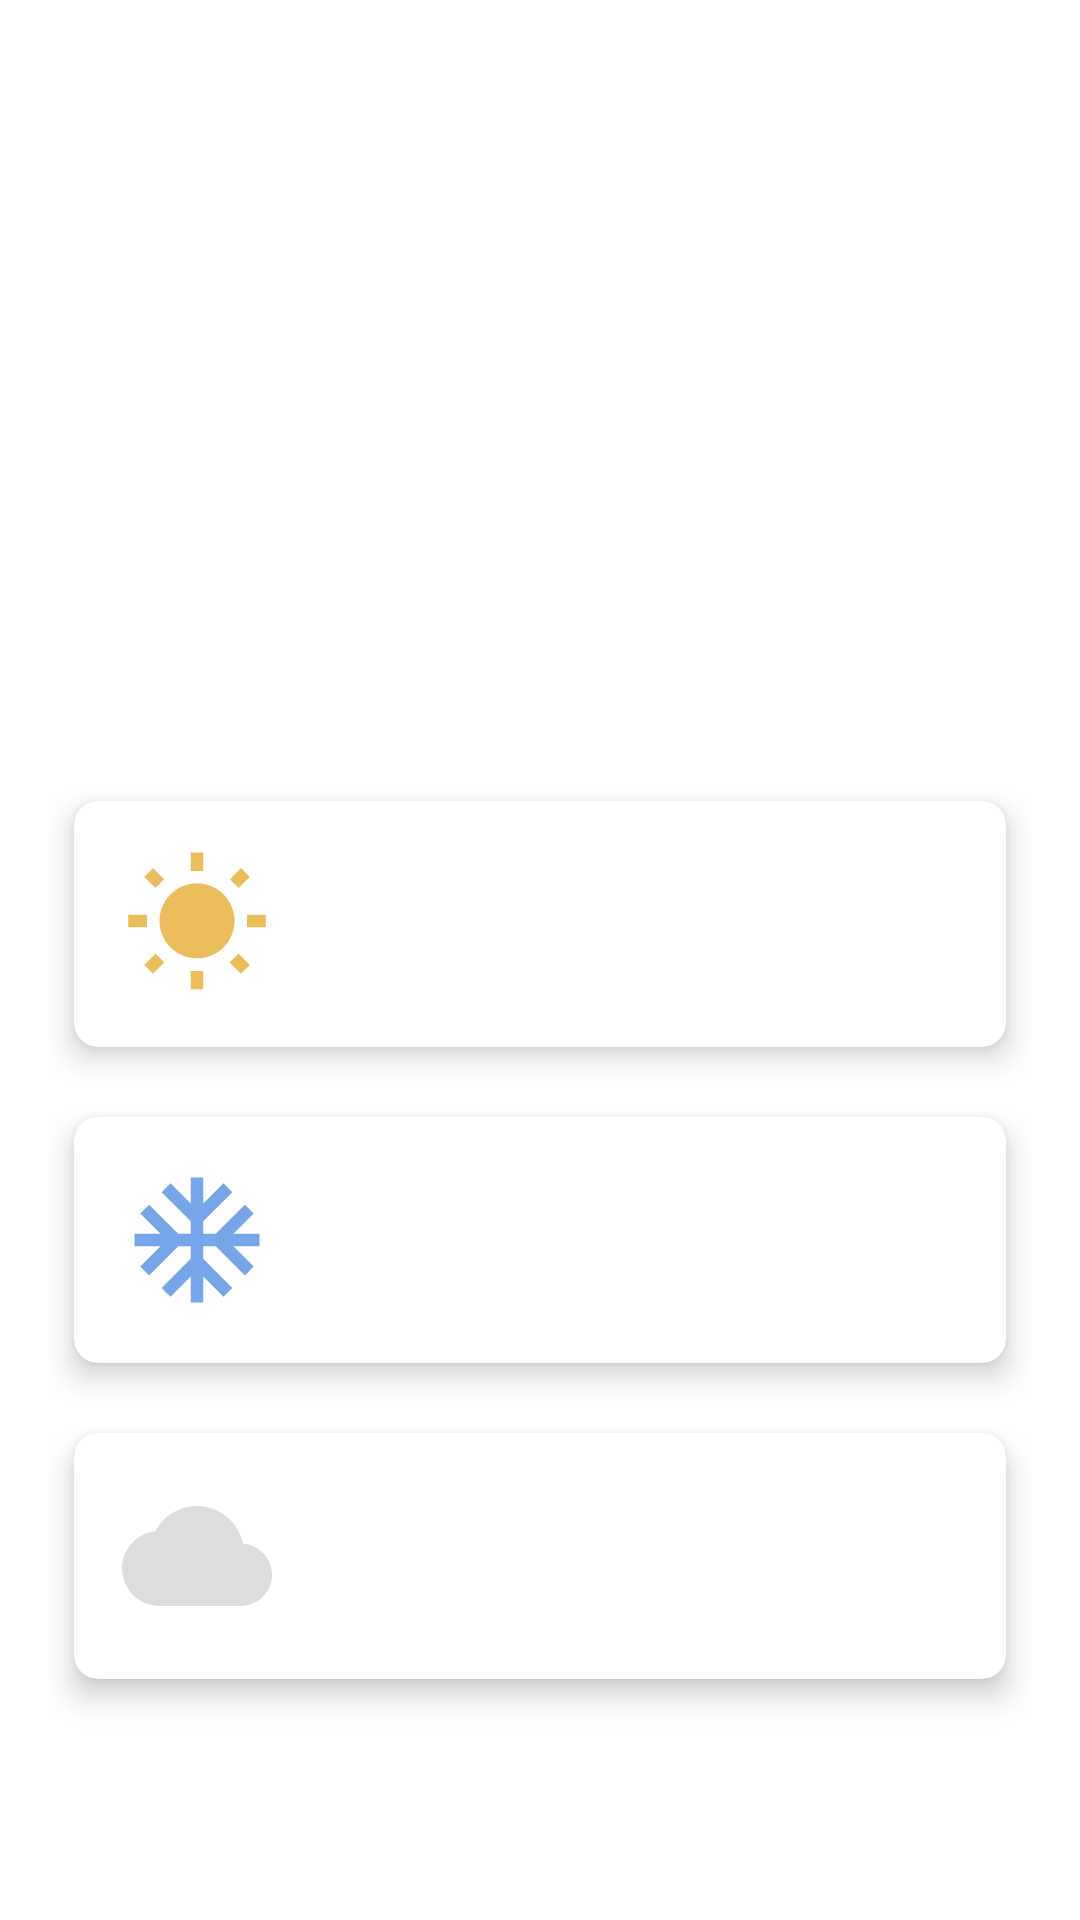

Named icons in this screenshot (1080×1920) and their bounding boxes, {"left": x1, "top": y1, "right": x2, "bottom": y2}:
ac unit: {"left": 134, "top": 1177, "right": 260, "bottom": 1303}
sunny: {"left": 128, "top": 852, "right": 266, "bottom": 990}
